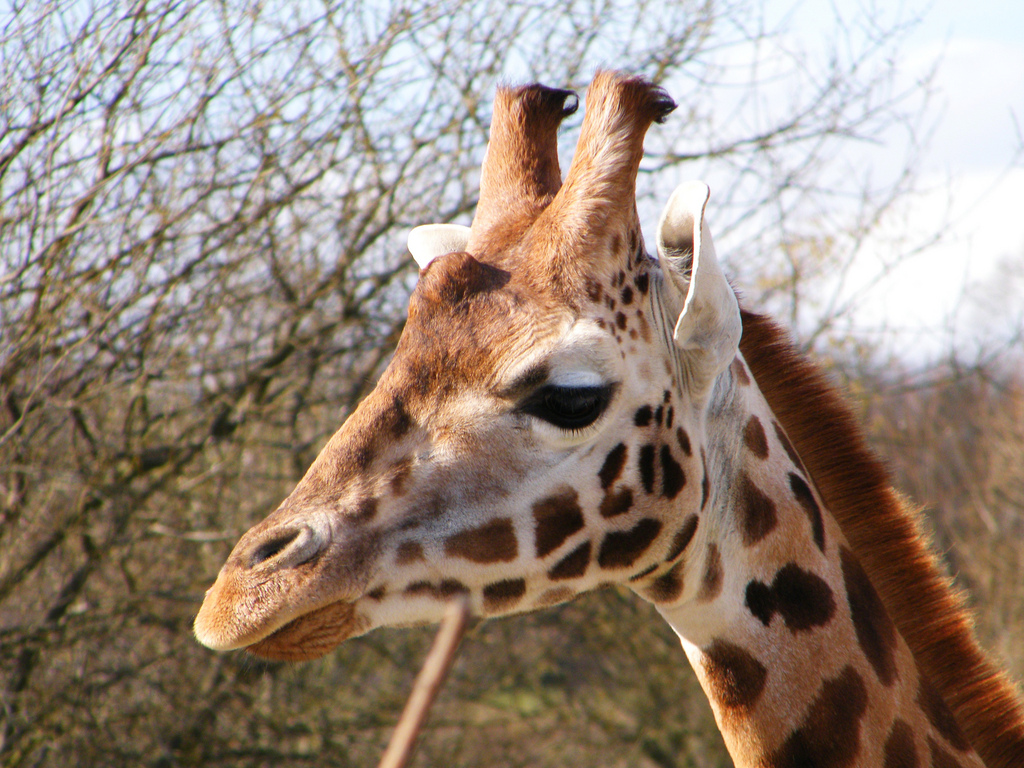giraffe: (165, 82, 1001, 745)
